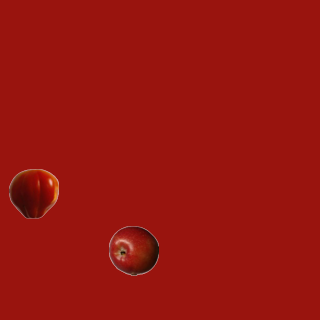Apple Braeburn: (108, 225, 158, 275)
Tomato 1: (8, 168, 58, 218)
